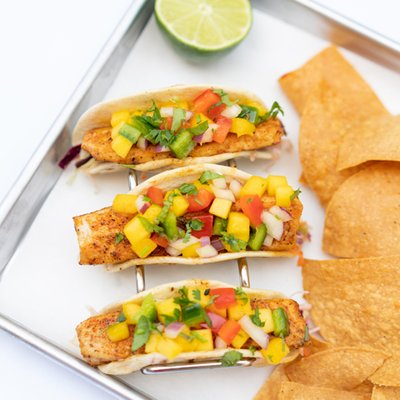soup: (276, 45, 400, 205)
taco: (153, 0, 253, 54)
